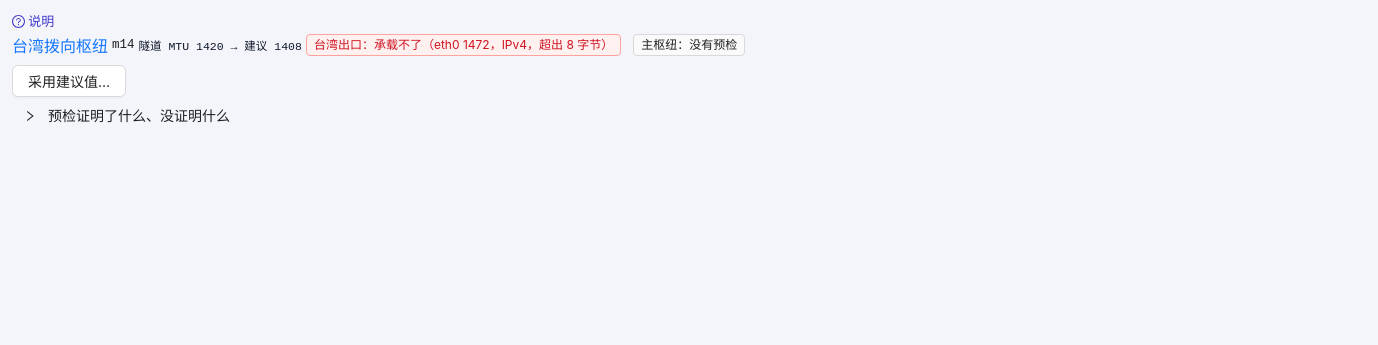
Scenario: uplink MTU suggestion › shows both ends and adopts only after an explicit confirmation
This screenshot has width=1378, height=345.
Expected: the element with test id "uplink-leg" shows "隧道 MTU 1420 → 建议 1408", [12,34,745,56]
Expected: the elements with test id "uplink-end" read "台湾出口：承载不了（eth0 1472，IPv4，超出 8 字节）", "主枢纽：没有预检", in this order, [306,34,621,56]; [633,34,745,56]
Click the button with test id "uplink-adopt-open".
click(69, 81)  # box [12,65,126,97]
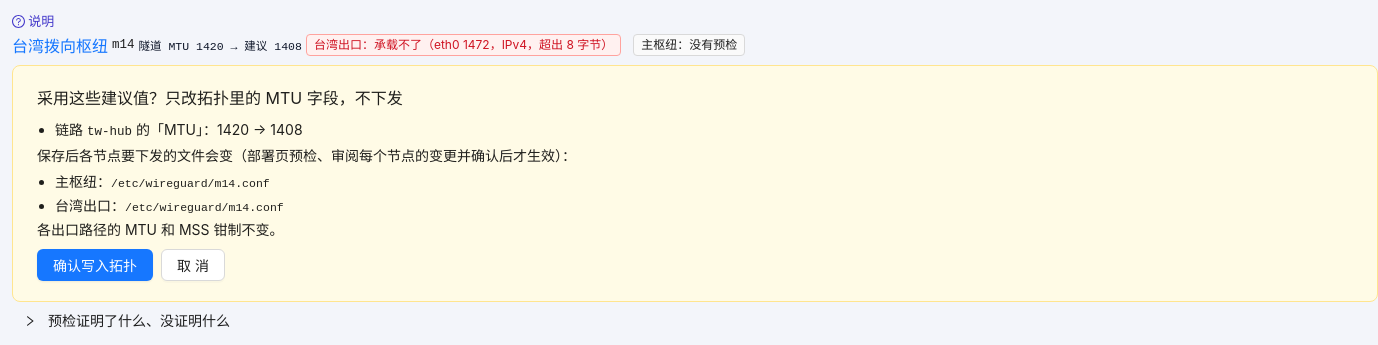
Result: the list item with test id "uplink-change" shows "tw-hub 的「MTU」：1420 → 1408" at [55,121,303,139]
Result: the list with test id "uplink-node-diffs" shows "主枢纽：/etc/wireguard/m14.conf" at [55,173,284,214]
Result: the list with test id "uplink-node-diffs" shows "台湾出口：/etc/wireguard/m14.conf" at [55,173,284,214]
Click the button with test id "uplink-adopt-ok".
click(95, 265)  # box [37,249,153,281]
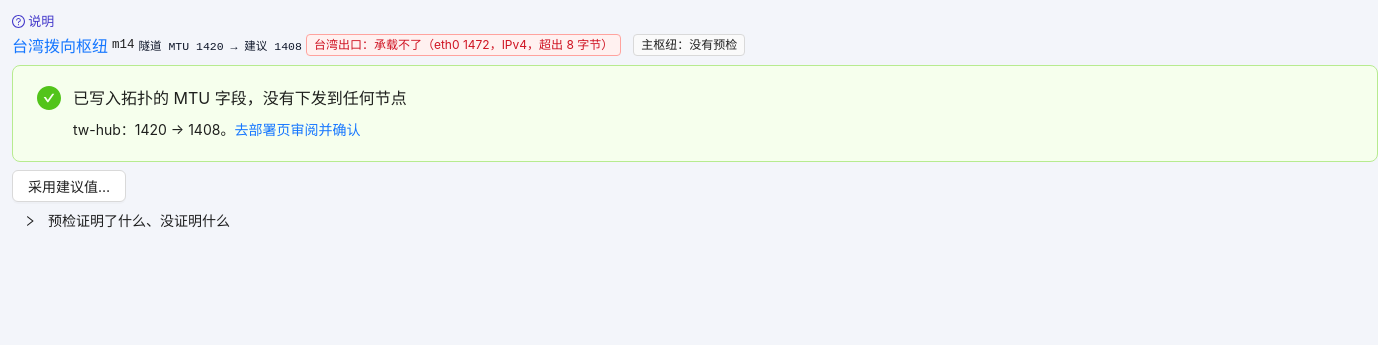
Result: the message with test id "uplink-adopted" shows "没有下发到任何节点" at [73,88,407,108]
